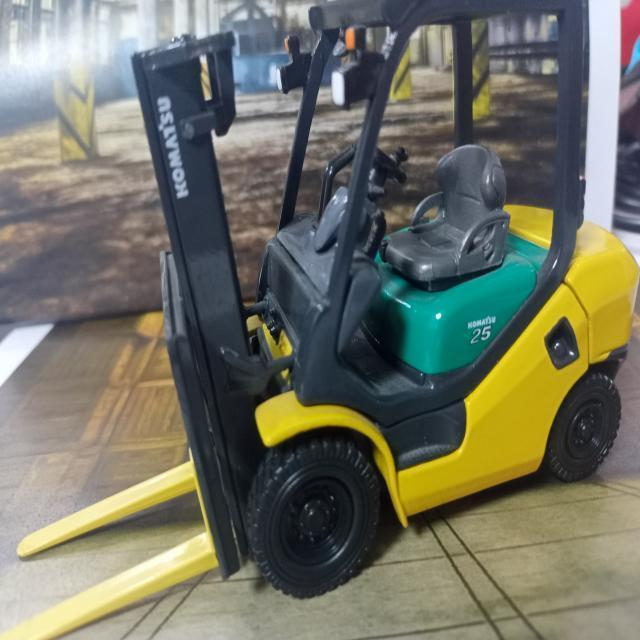forklift: (130, 1, 634, 593)
